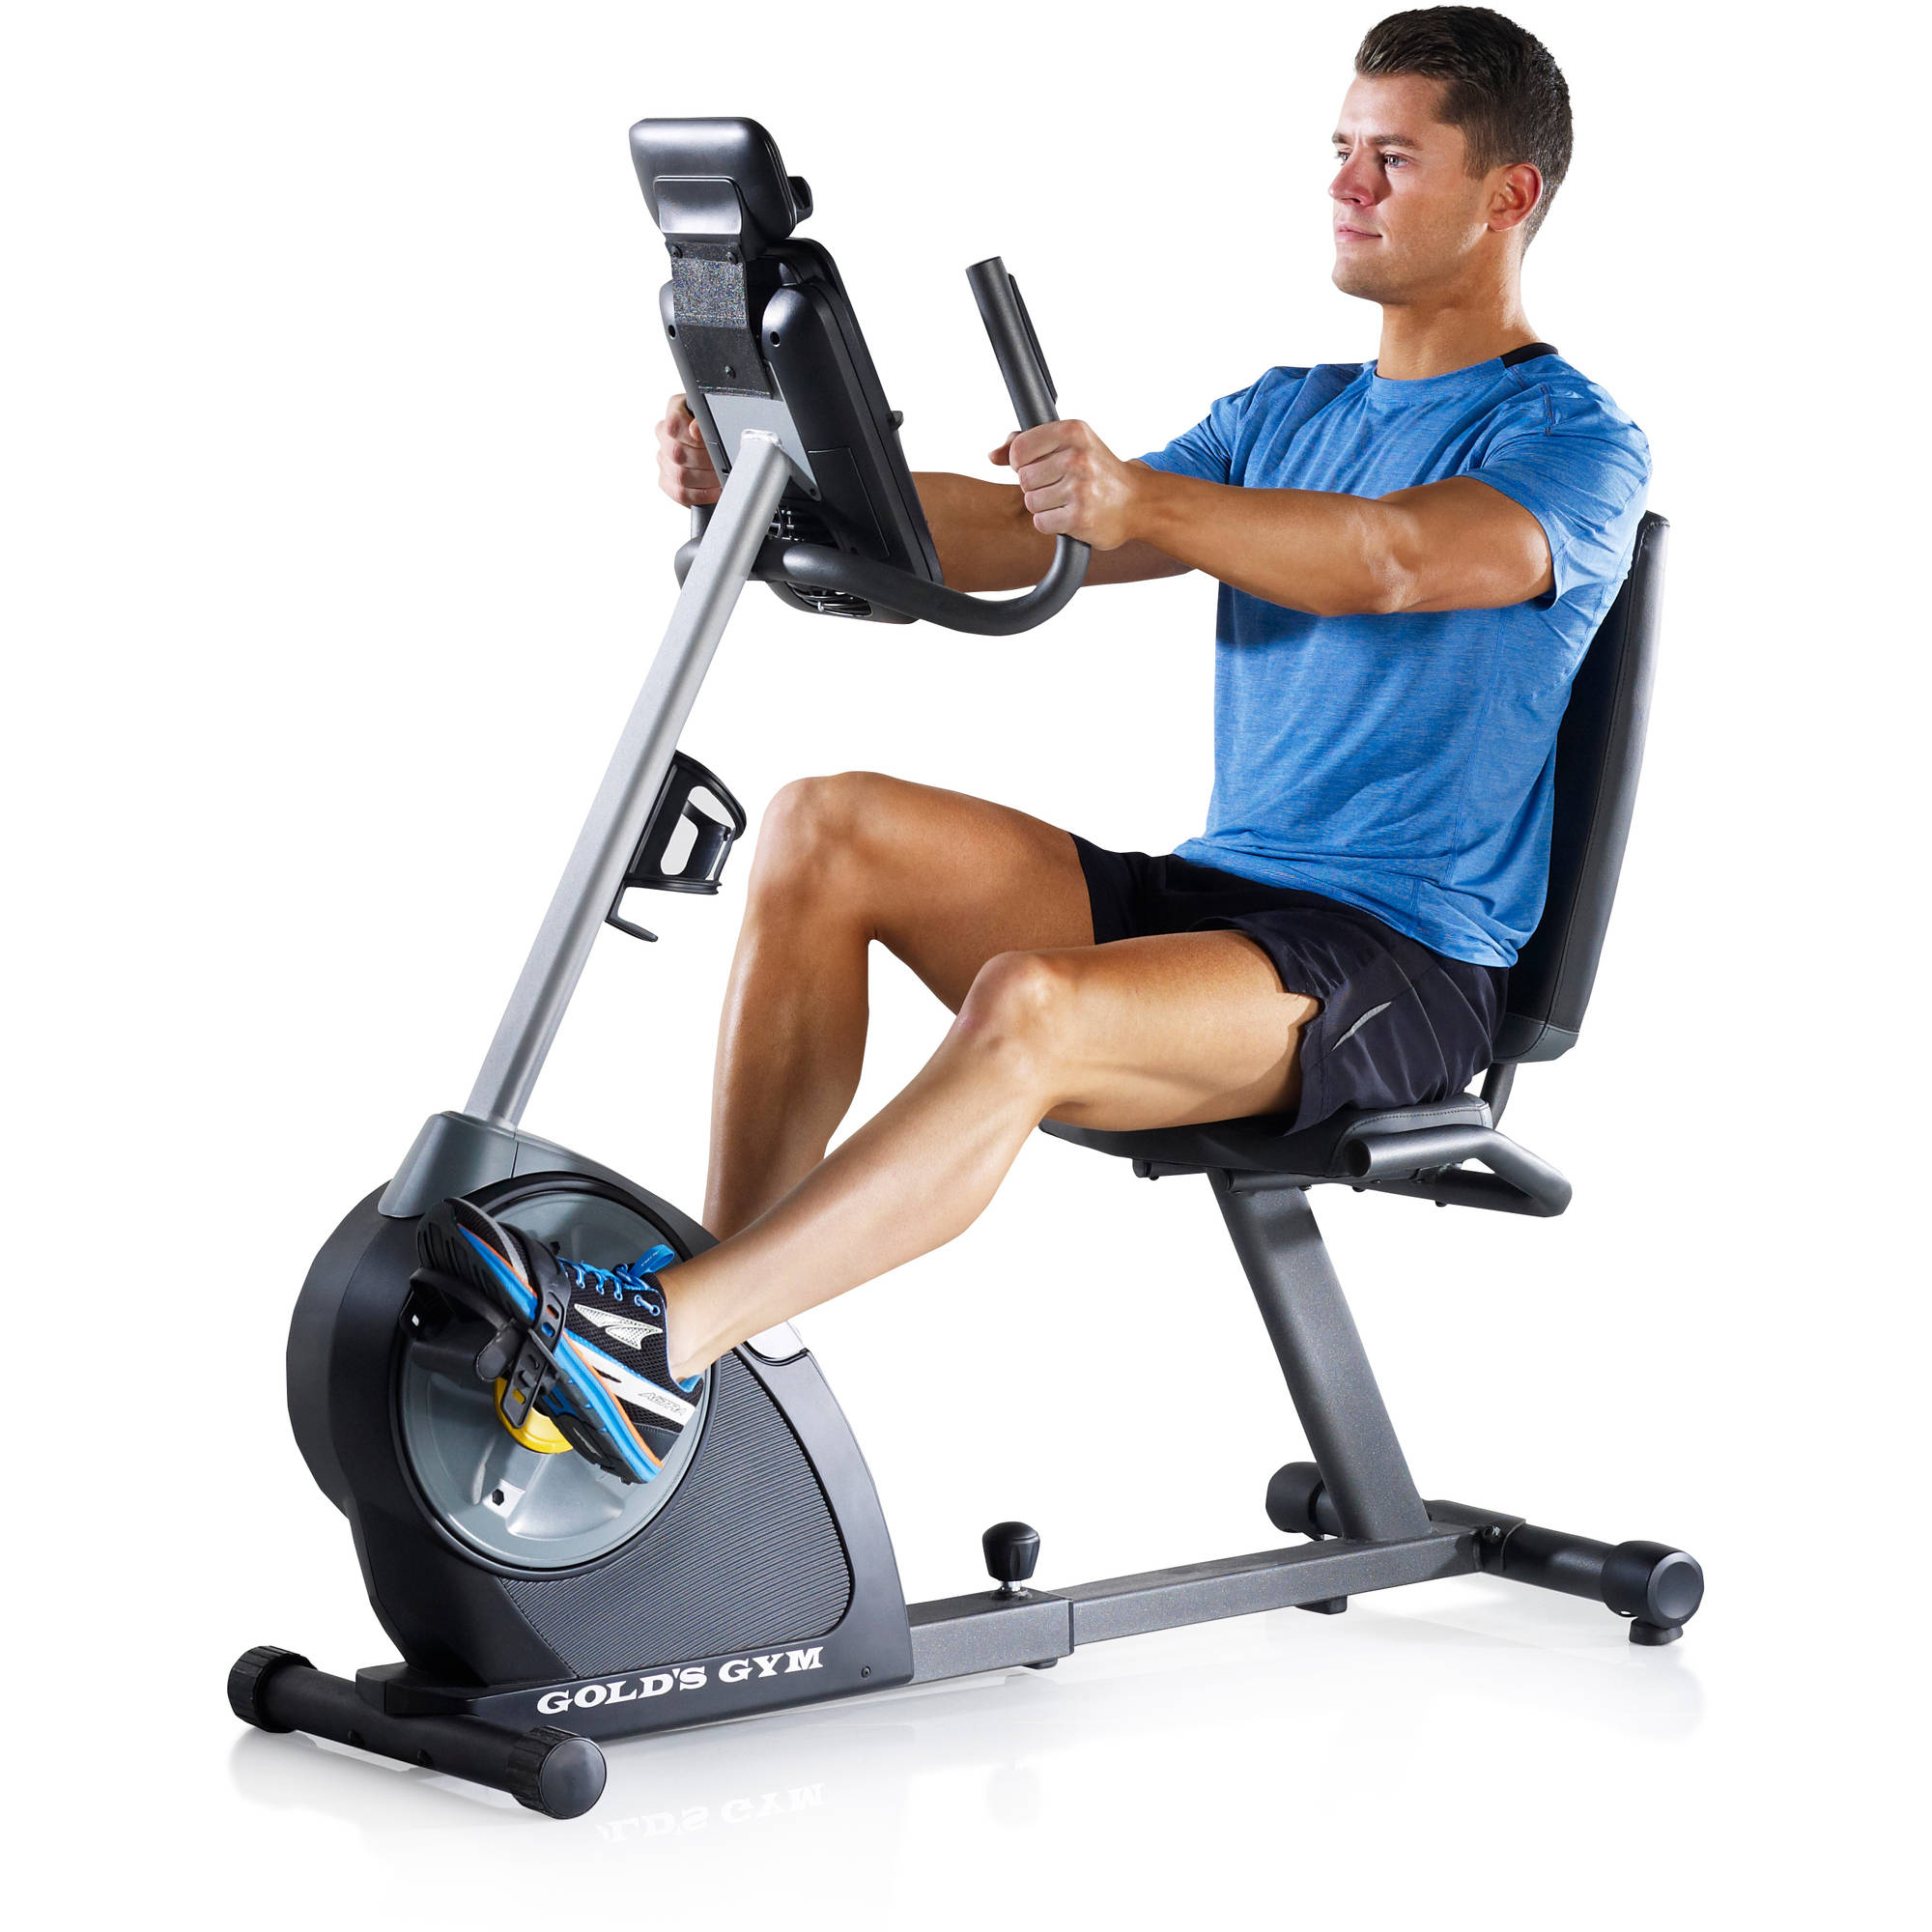gym_bike: (255, 101, 1704, 1822)
